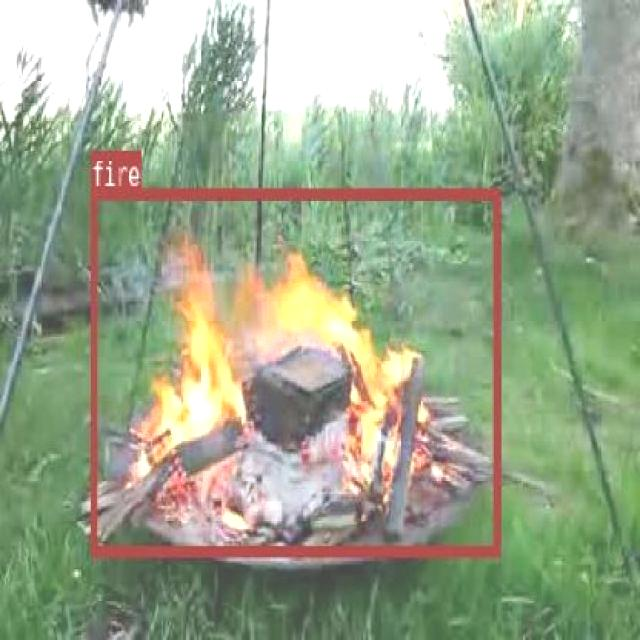fire: (90, 188, 498, 556)
